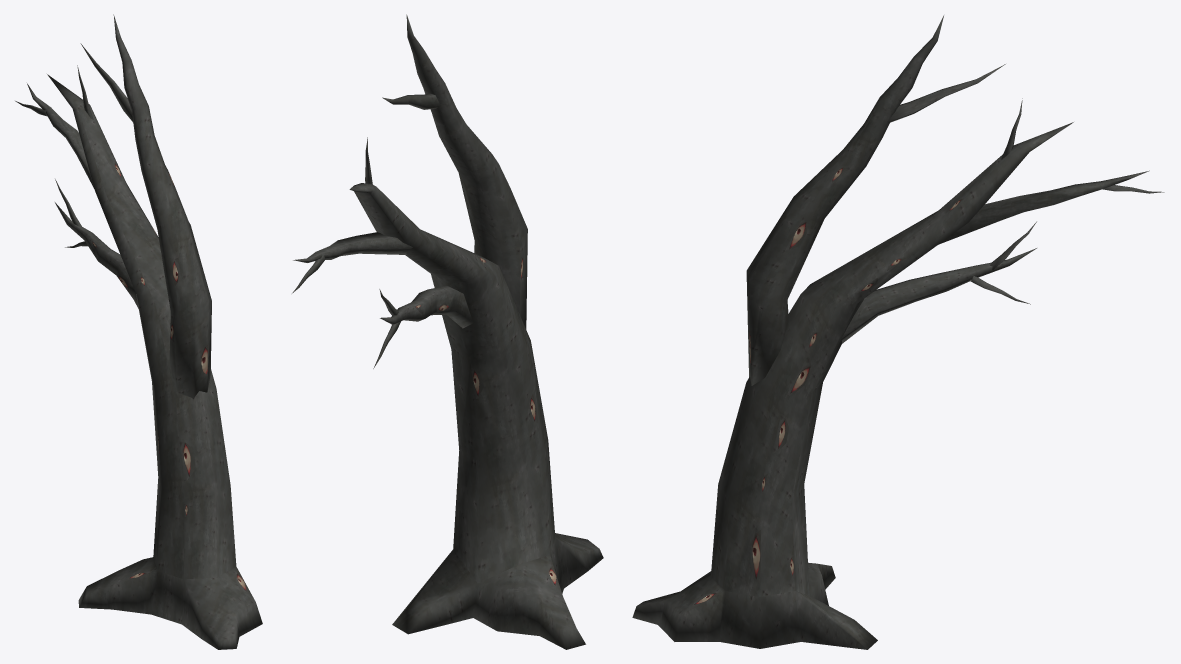
The model's file is Eyetree01.fbx.
3 views of the same model, side by side, from view 1: azimuth 30°, elevation 25°; view 2: azimuth 150°, elevation 25°; view 3: azimuth 270°, elevation 25° (orthographic). The views are drawn at different scales.
Visible parts, largest first — view 1: Eyetree01; view 2: Eyetree01; view 3: Eyetree01.
Boxes of the visible parts, x1,y1,x2,y2 form: Eyetree01: [15, 14, 262, 649]; Eyetree01: [292, 14, 603, 649]; Eyetree01: [632, 15, 1164, 649].
Bounding box in the file's own units: 1.67 × 6.25 × 4.95.
Materials: 2 (2 with a texture image).
